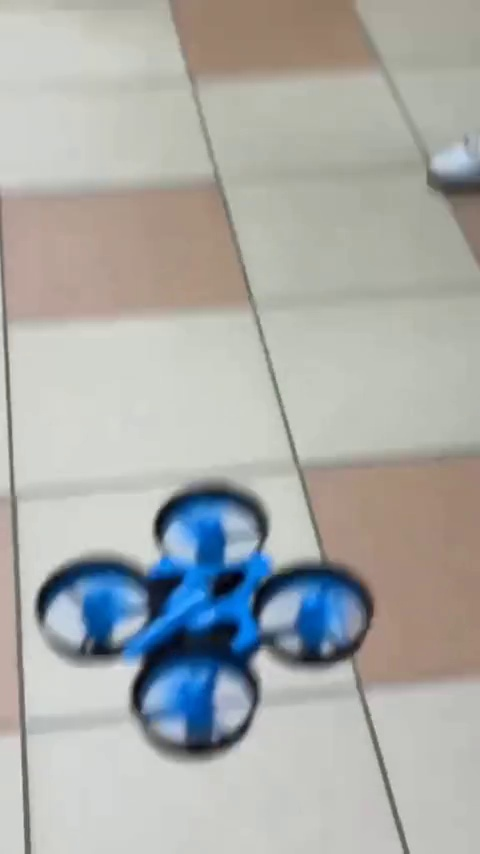drone: (33, 481, 372, 754)
